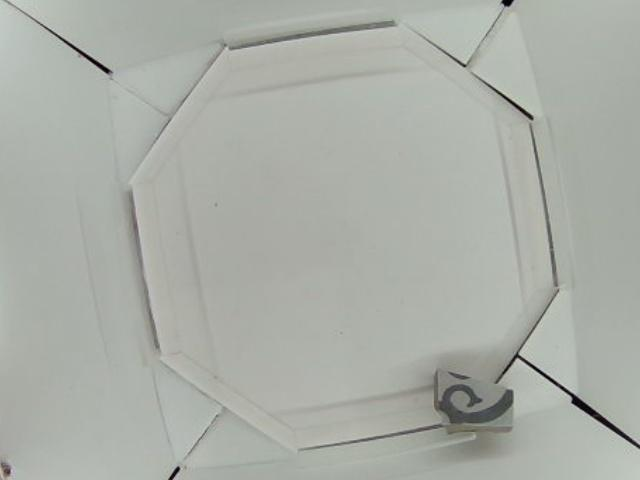China: (435, 366, 517, 433)
